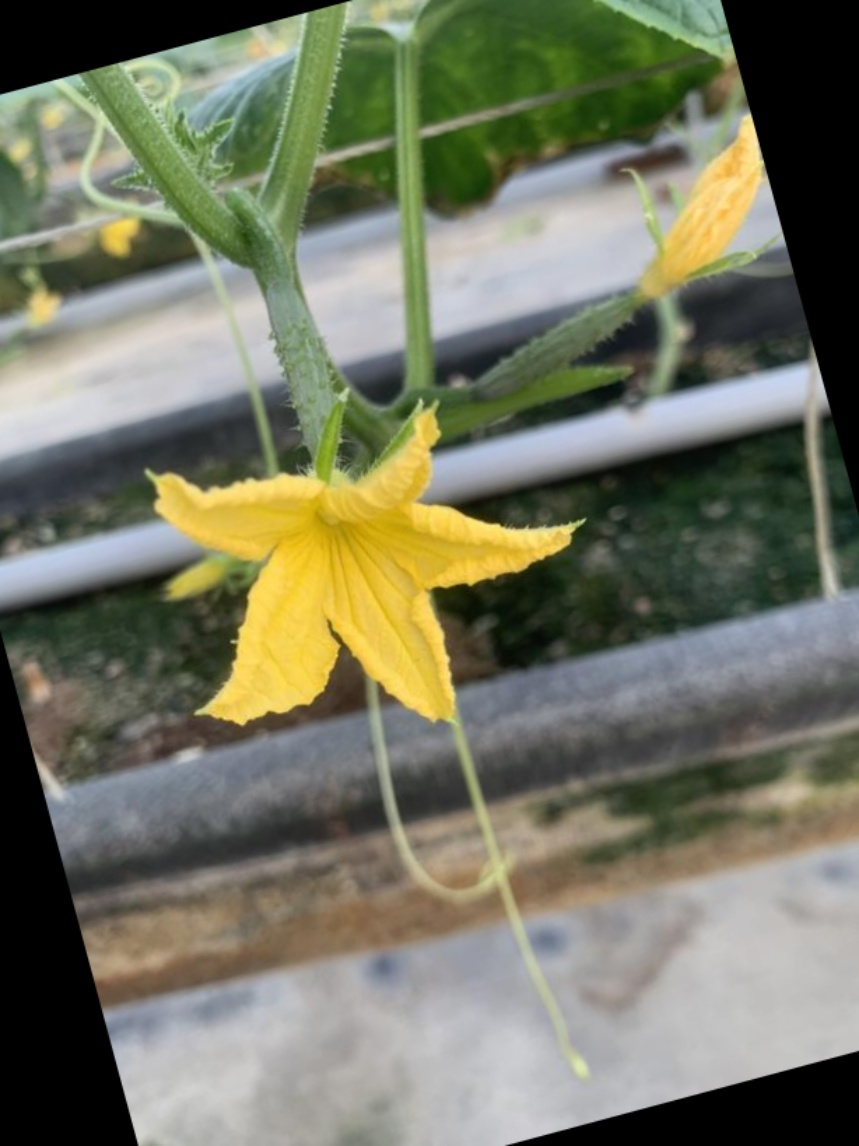bear: (447, 124, 762, 412)
